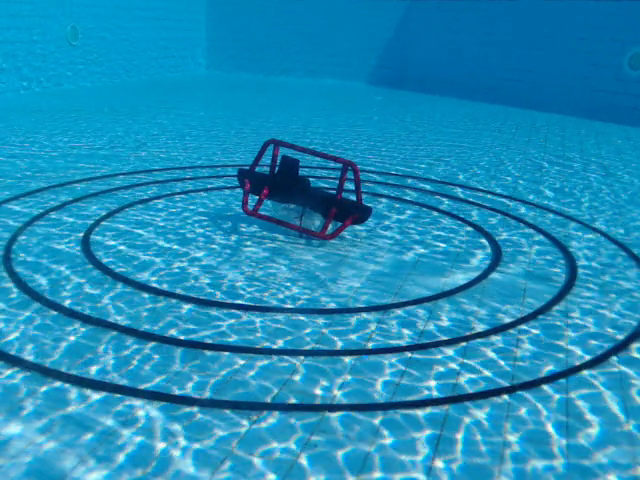submarine: (236, 137, 375, 242)
